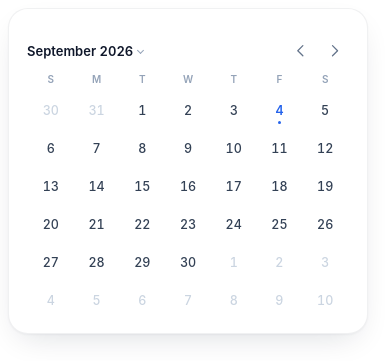
Test case: calendar zoom: grid semantics › exposes an ARIA grid of four rows and twelve gridcells
Click the button with aria-label "zoom out" at [85, 51], box [20,39,150,63]
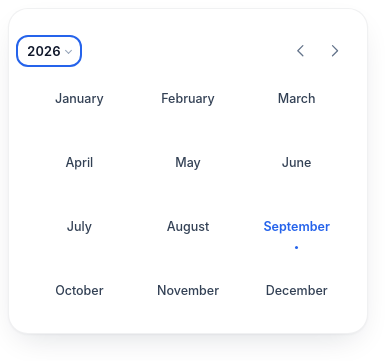
Expected: the number of rows is 4, [28,69,348,127]; [28,133,348,191]; [28,197,348,255]; [28,261,348,319]
Expected: the number of cells is 12
